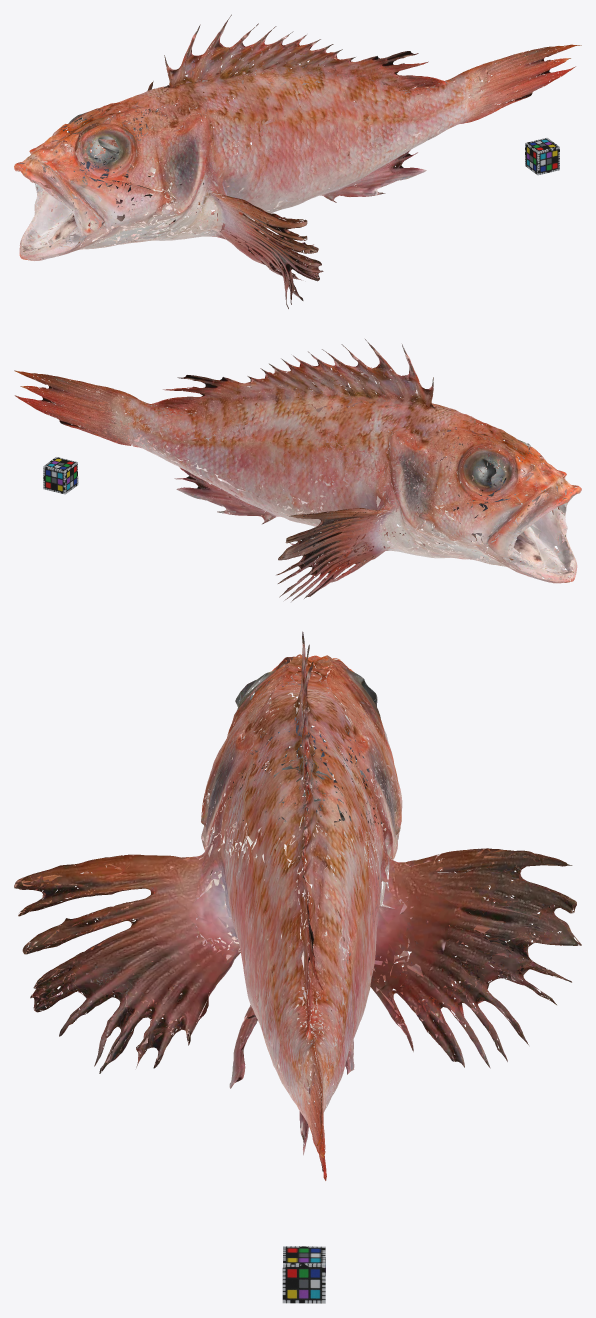
The model's file is scan_saucord.glb.
3 views of the same model, one above another, from view 1: azimuth 30°, elevation 25°; view 2: azimuth 150°, elevation 25°; view 3: azimuth 270°, elevation 25° (orthographic). The views are drawn at different scales.
Parts seen in each view (by area): view 1: Object_10, Object_6, Object_4; view 2: Object_6, Object_10, Object_4; view 3: Object_10, Object_6, Object_4.
Boxes of the visible parts, x1,y1,x2,y2 form: Object_10: (14,14,581,308); Object_6: (14,21,578,308); Object_4: (525,137,559,175); Object_6: (14,344,581,598); Object_10: (14,339,581,601); Object_4: (43,457,78,494); Object_10: (16,631,581,1176); Object_6: (14,634,578,1180); Object_4: (282,1246,325,1303).
Bounding box in the file's own units: 11.26 × 4.7 × 5.85.
Materials: 3 (3 with a texture image).
